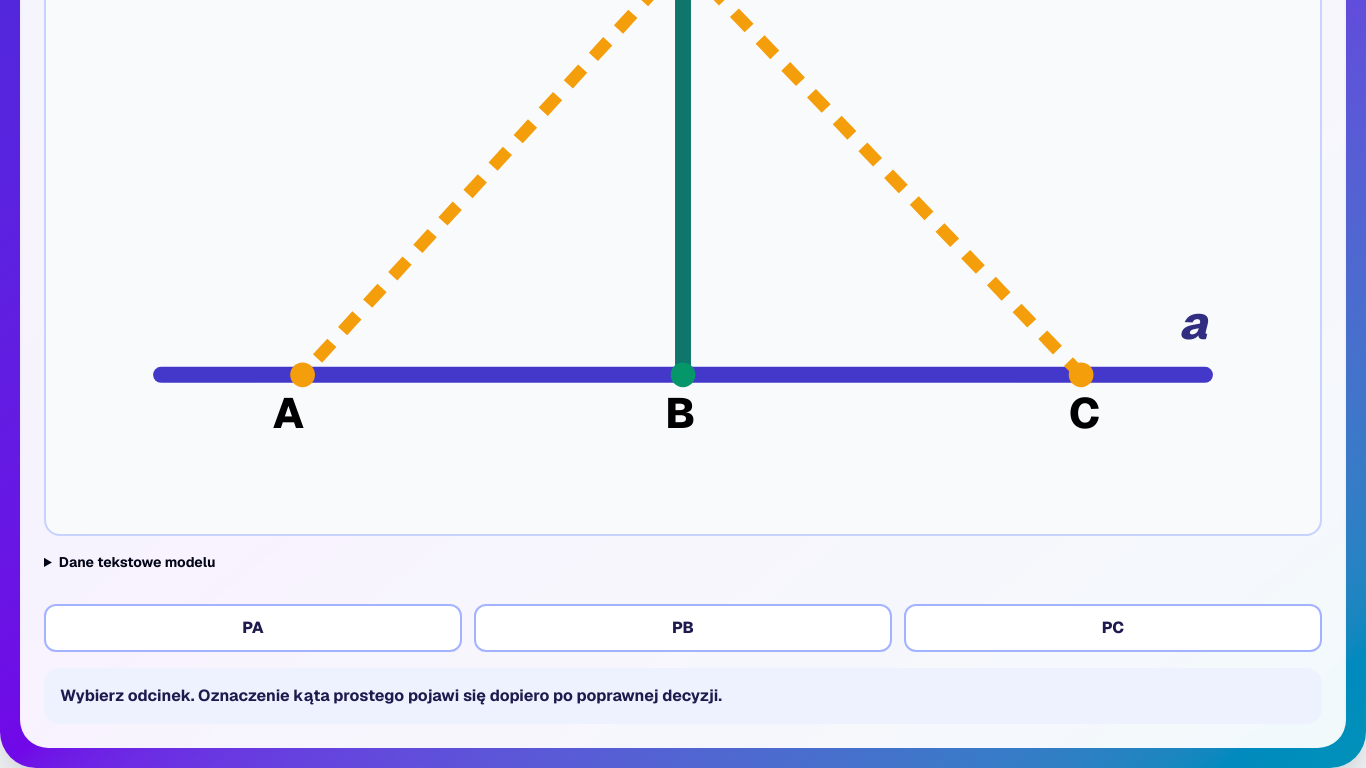
podstawy prostych, odcinków i odległości › wymaga wskazania najkrótszego odcinka od punktu do prostej
This screenshot has width=1366, height=768.
(page scrolled)
Click the button "PA" at x=253, y=628, box [44,604,462,652]
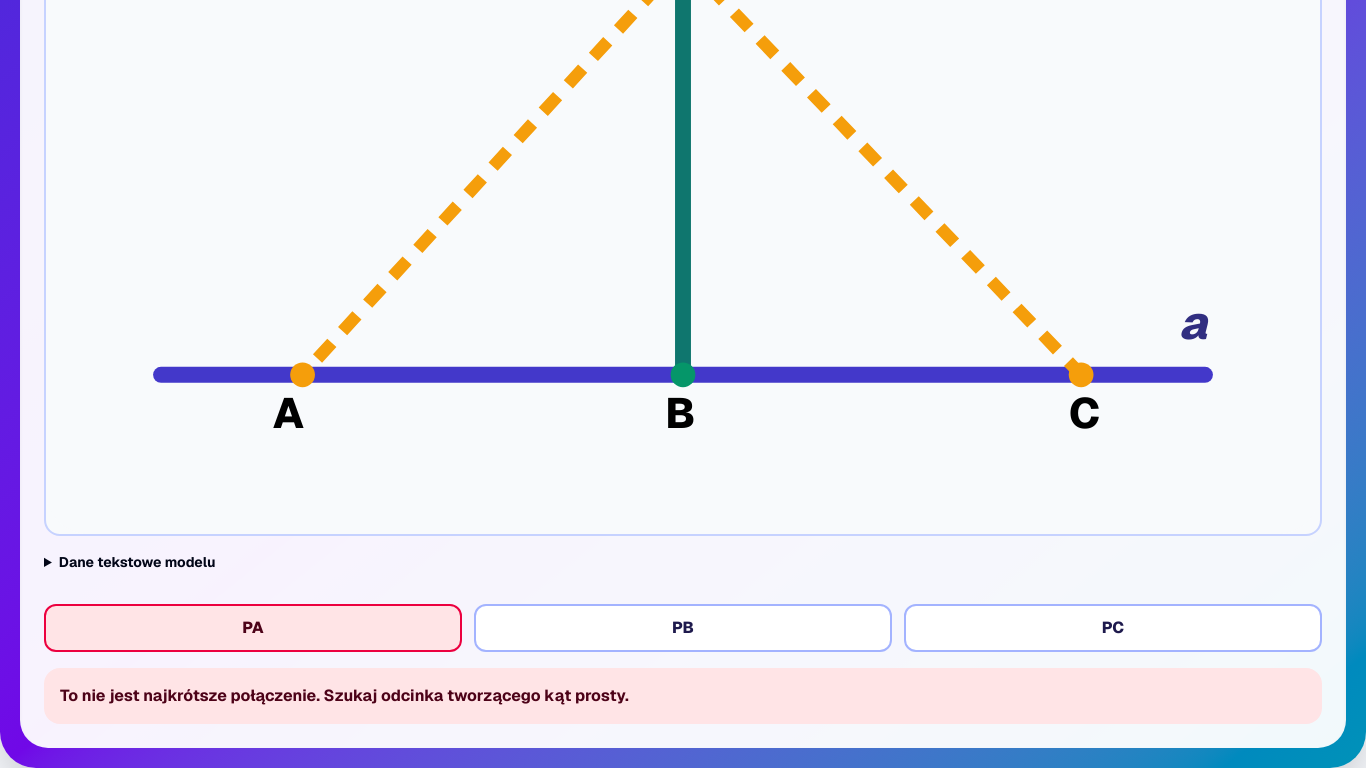
Result: the message shows "nie jest najkrótsze" at [60,685,629,706]
Click the button "PB" at x=683, y=628, box [474,604,892,652]
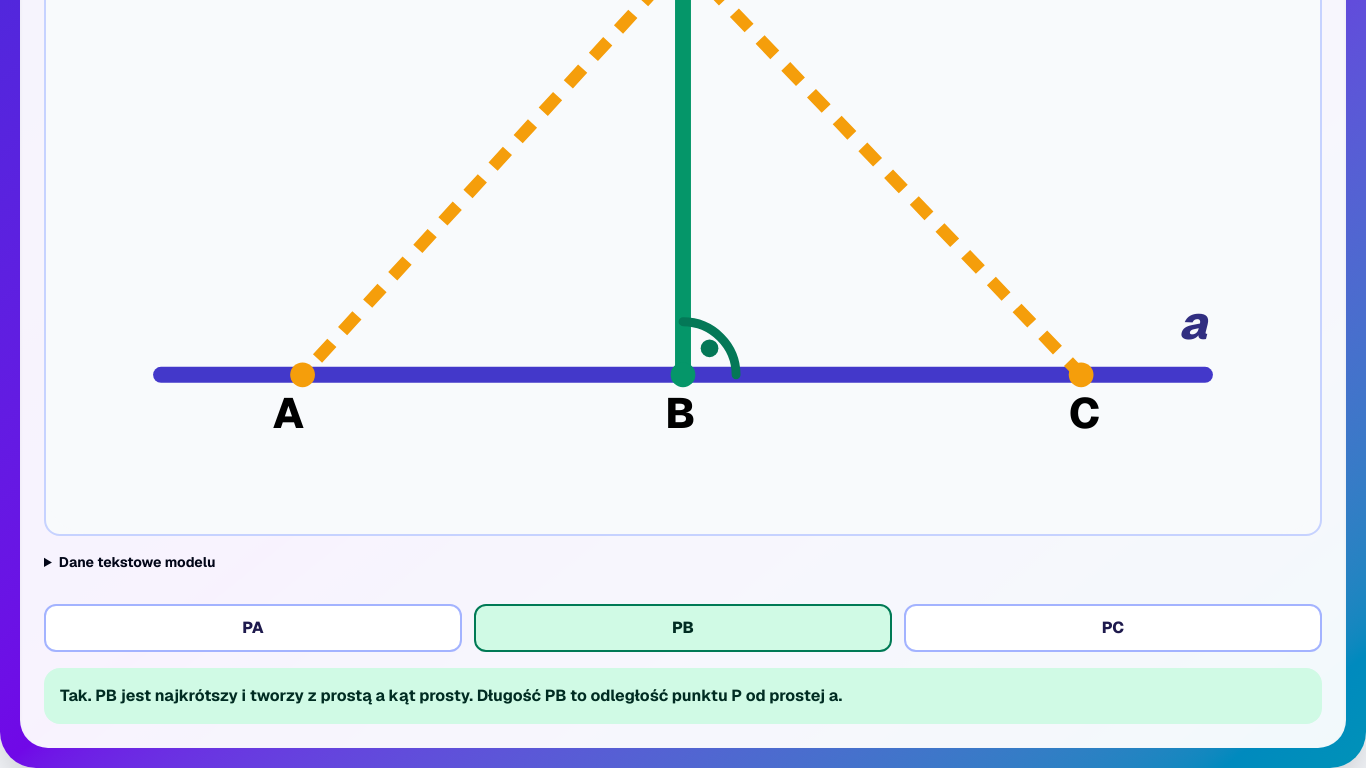
Result: the message shows "PB jest najkrótszy" at [60,685,842,706]
